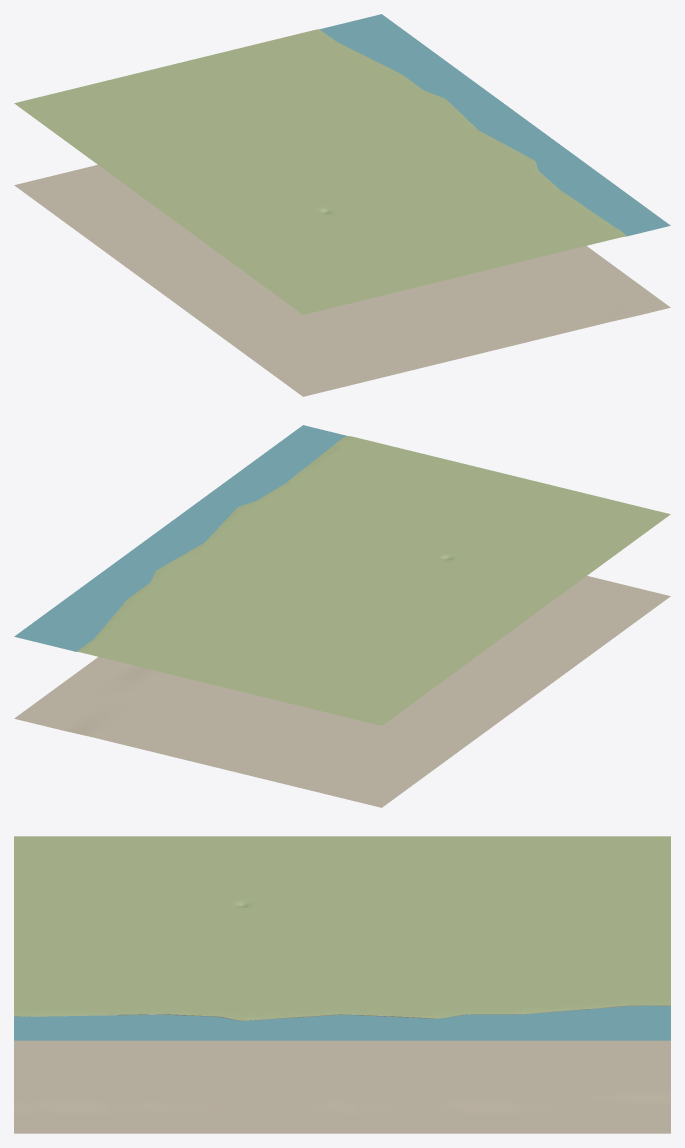
3 views of the same model, one above another, from view 1: azimuth 30°, elevation 25°; view 2: azimuth 150°, elevation 25°; view 3: azimuth 270°, elevation 25° (orthographic). The views are drawn at different scales.
Parts seen in each view (by area): view 1: s_-13_-6__grass, s_-13_-6__soil, s_-13_-6__water; view 2: s_-13_-6__grass, s_-13_-6__soil, s_-13_-6__water; view 3: s_-13_-6__grass, s_-13_-6__soil, s_-13_-6__water.
Part boxes in pixels (bbox=[...]): s_-13_-6__grass: bbox=[14, 29, 626, 314]; s_-13_-6__soil: bbox=[14, 165, 670, 396]; s_-13_-6__water: bbox=[320, 14, 670, 236]; s_-13_-6__grass: bbox=[77, 435, 670, 725]; s_-13_-6__soil: bbox=[14, 576, 670, 807]; s_-13_-6__water: bbox=[14, 425, 346, 651]; s_-13_-6__grass: bbox=[14, 836, 670, 1020]; s_-13_-6__soil: bbox=[14, 1014, 670, 1133]; s_-13_-6__water: bbox=[14, 1006, 670, 1040].
Size of the model in its own units: 94 by 20.14 by 128.
